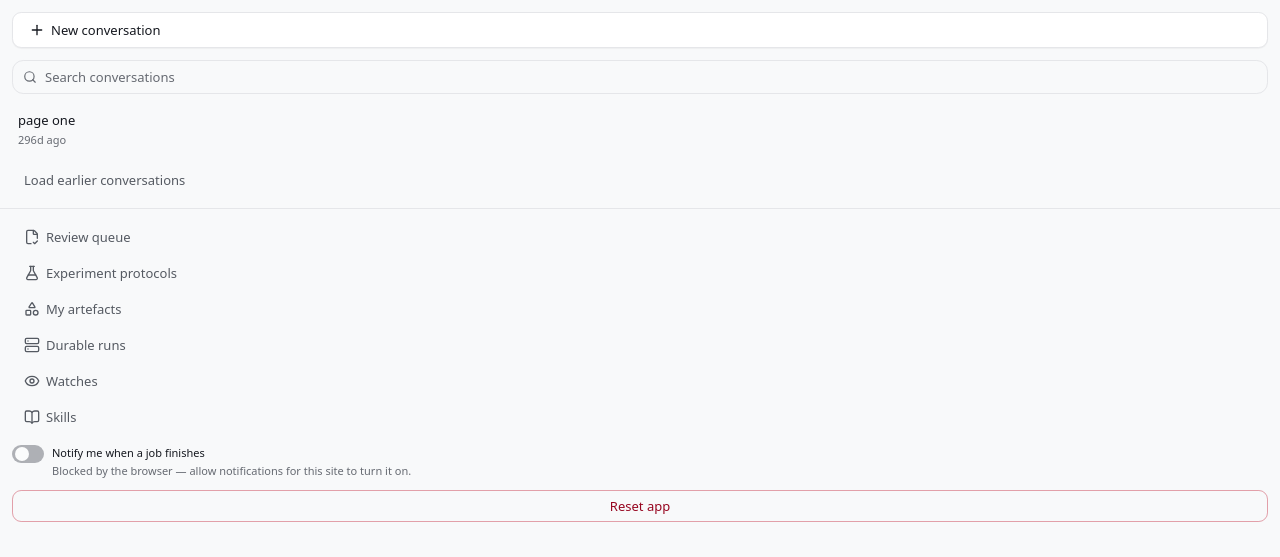
Test: a page that failed transiently › keeps the control, as a retry that says it is one — and the retry works
Click the button "Load earlier conversations": (105, 180) [12, 164, 1268, 196]
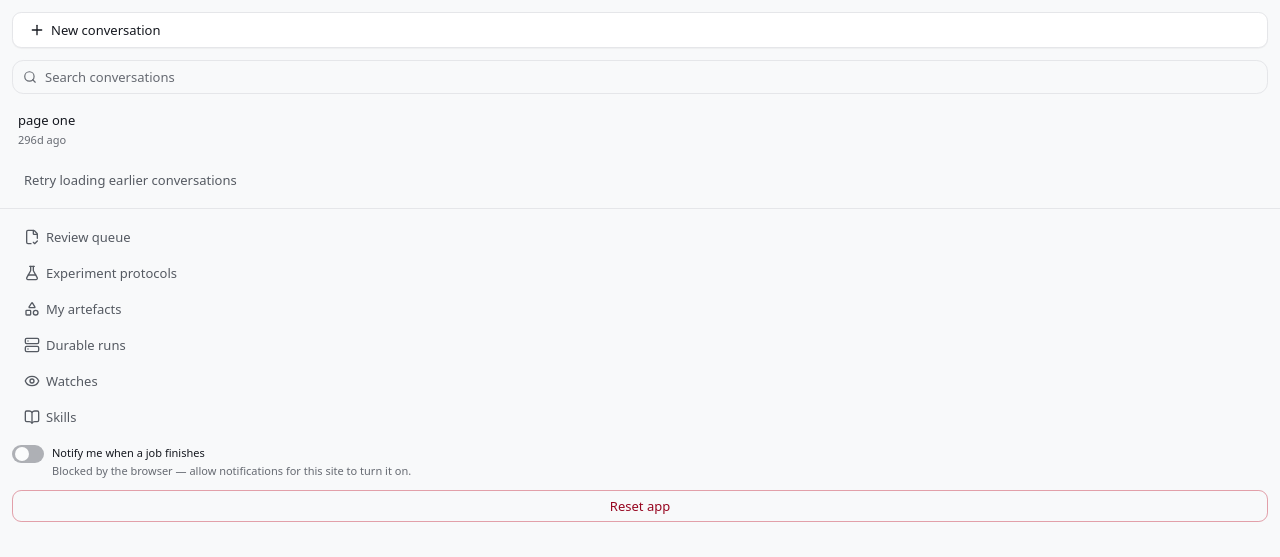
Click the button "Retry loading earlier conversations": (130, 180) [12, 164, 1268, 196]
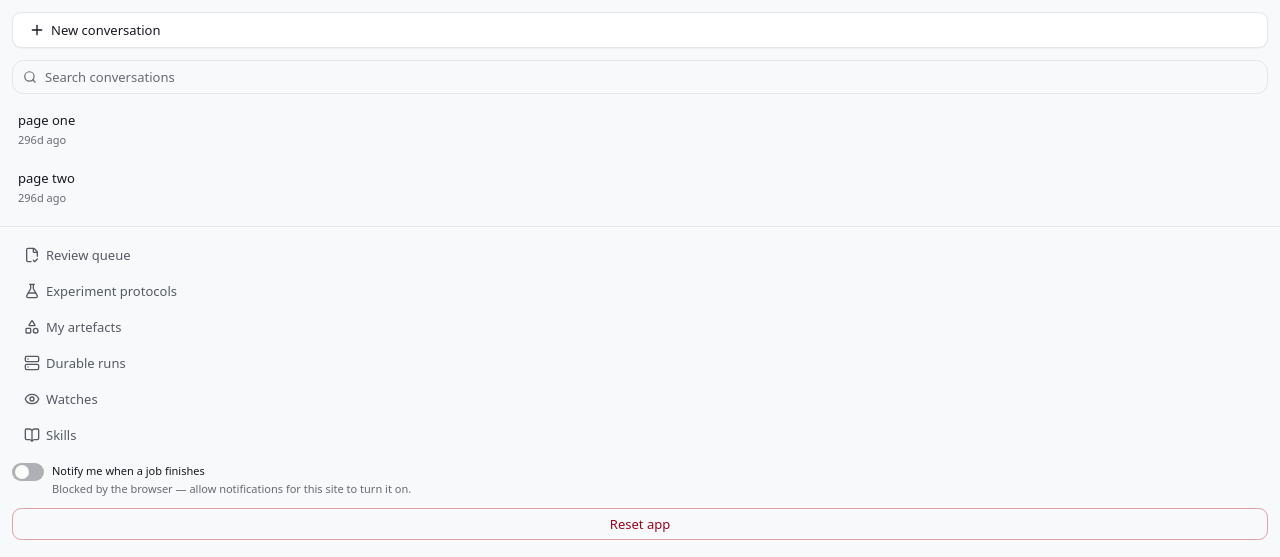
Expected: the button "Load earlier conversations" is not shown
Result: the text "page two" is shown at [18, 168, 75, 188]
Result: the button "Retry loading earlier" is gone
